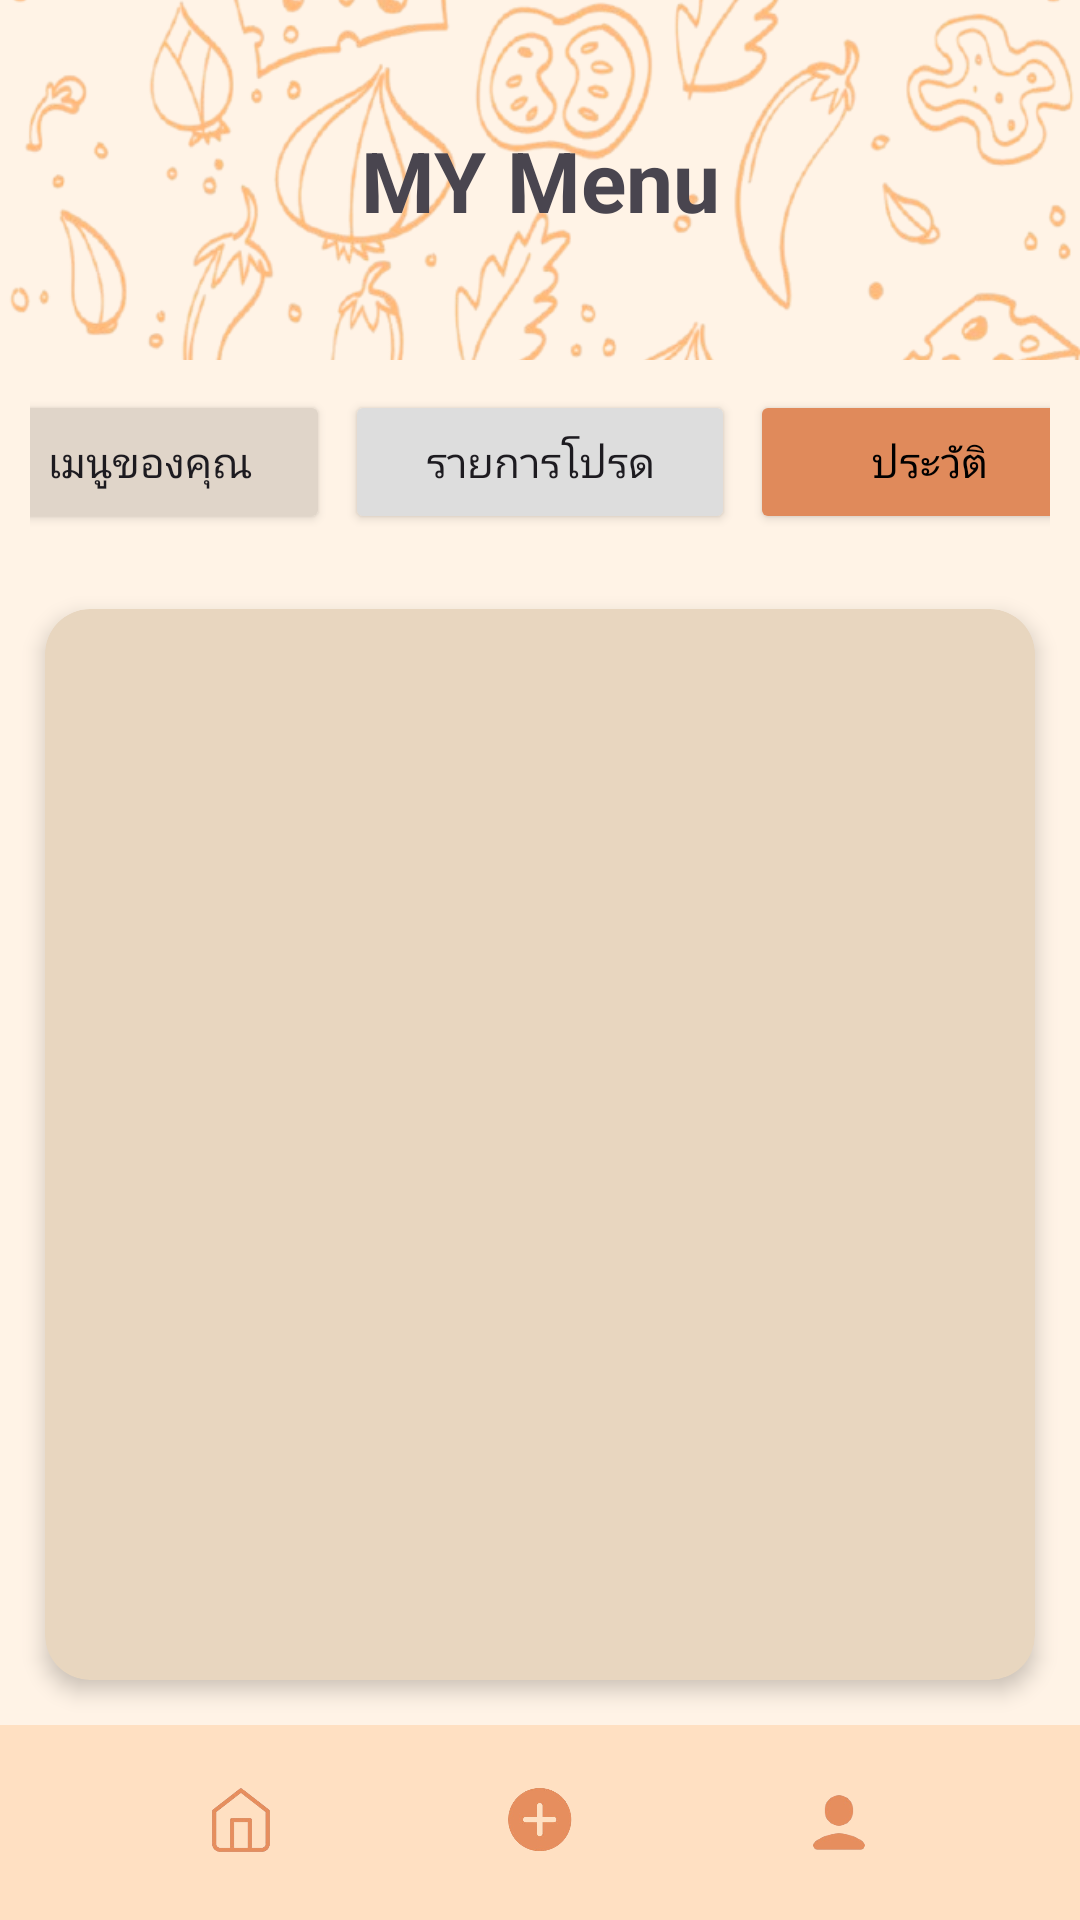

Named icons in this screenshot (1080 × 1920) and their bounding boxes, (x1, y1, x2, y2):
add: (508, 1788, 571, 1851)
home: (212, 1788, 270, 1852)
prof: (813, 1795, 865, 1850)
